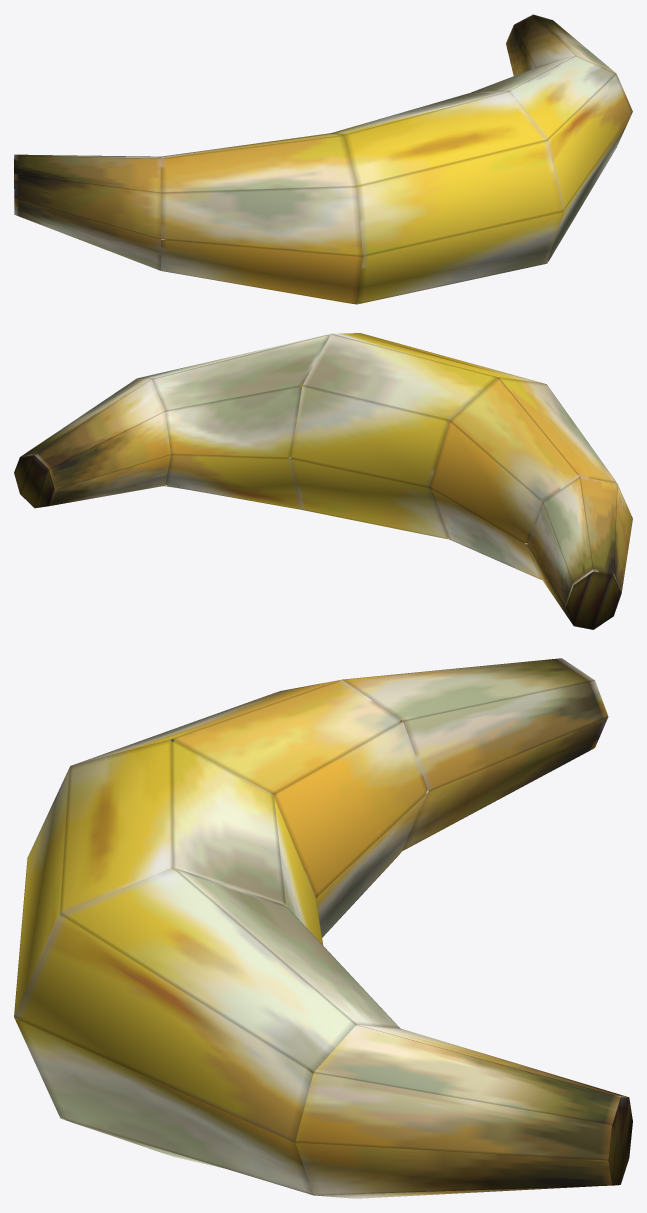
The picture shows the model from 3 angles, top to bottom: view 1: azimuth 30°, elevation 25°; view 2: azimuth 150°, elevation 25°; view 3: azimuth 270°, elevation 25°; orthographic projection. The views are drawn at different scales.
Parts seen in each view (by area): view 1: T1L6M007_4; view 2: T1L6M007_4; view 3: T1L6M007_4.
Boxes of the visible parts, bbox=[...] form: T1L6M007_4: bbox=[14, 14, 632, 304]; T1L6M007_4: bbox=[14, 333, 632, 629]; T1L6M007_4: bbox=[14, 658, 632, 1198].
Bounding box in the file's own units: 0.8799 × 0.2549 × 0.4941.
